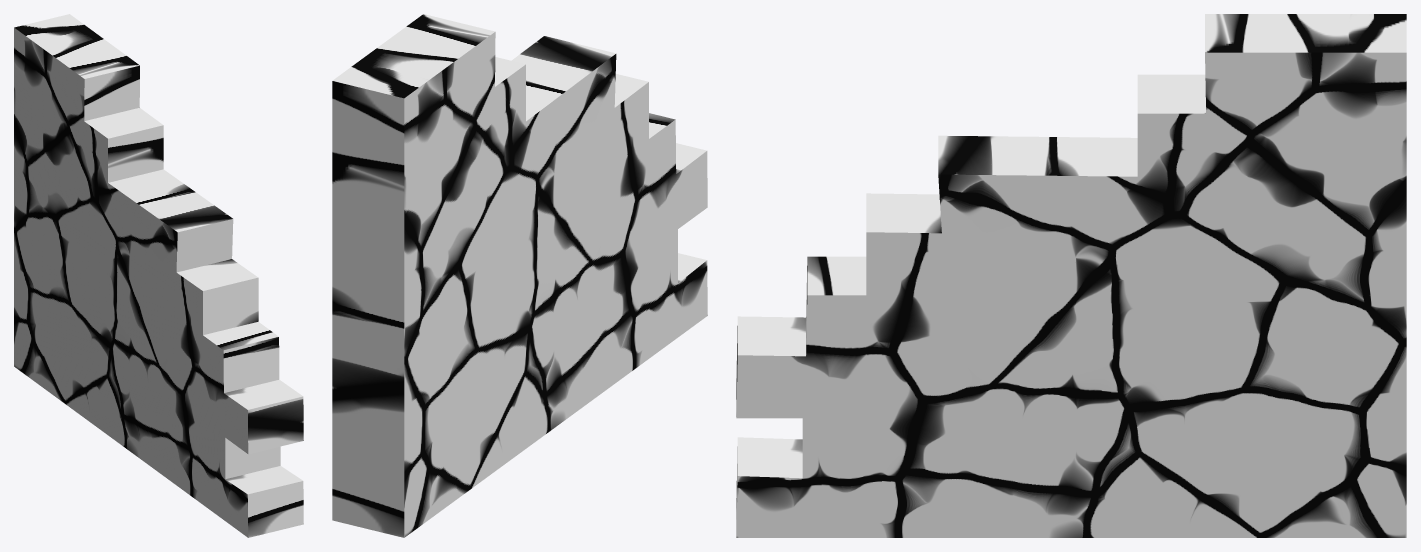
Rendered from SM_HalfWall_Broken.fbx.
3 renders of one model, left to right at view 1: azimuth 30°, elevation 25°; view 2: azimuth 150°, elevation 25°; view 3: azimuth 270°, elevation 25°, orthographic. The views are drawn at different scales.
Visible parts, largest first — view 1: polySurface2; view 2: polySurface2; view 3: polySurface2.
Part boxes in pixels (<box>): polySurface2: <box>14,14,303,537</box>; polySurface2: <box>332,14,707,537</box>; polySurface2: <box>736,14,1406,537</box>.
Size of the model in its own units: 0.343 by 2 by 2.5.
